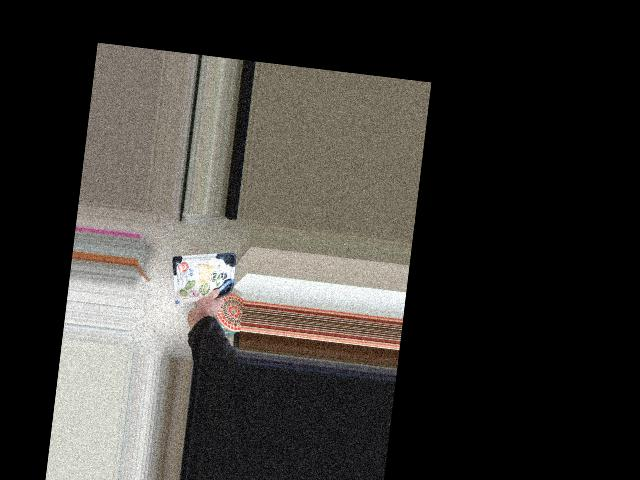cheese: (172, 263, 225, 317)
